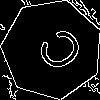C: (27, 24, 86, 81)
